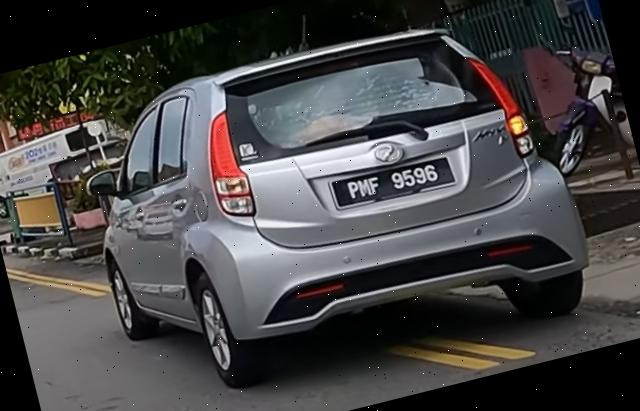License_Plate: (327, 150, 459, 215)
car: (63, 1, 603, 411)
